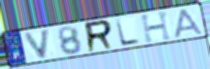8: (57, 25, 84, 56)
A: (174, 8, 205, 39)
H: (139, 9, 174, 45)
L: (114, 18, 142, 47)
R: (84, 18, 116, 54)
V: (23, 27, 53, 60)
